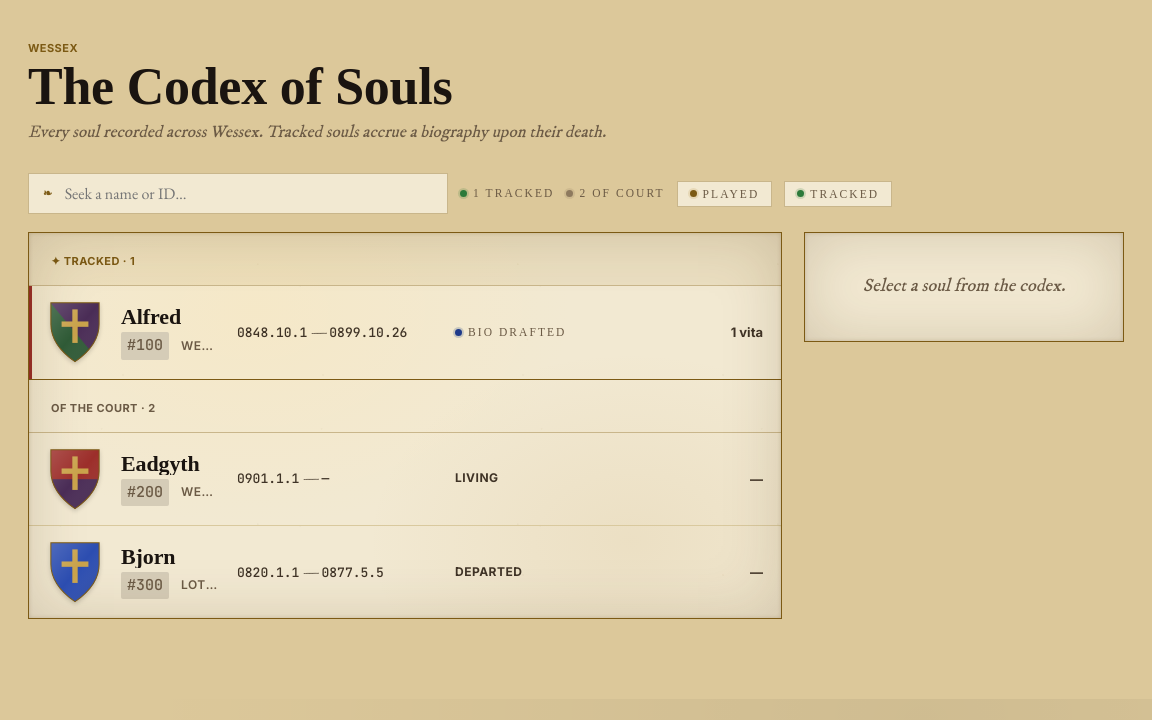
Test case: CodexPage › search routes to the BE-driven endpoint and renders matches across the campaign
This screenshot has width=1152, height=720.
Check: the text "Bjorn" is shown, box [121, 544, 176, 569]
Type "eadg" into the field named "Search characters".
click(248, 194); type("eadg")  # box [63, 182, 433, 205]
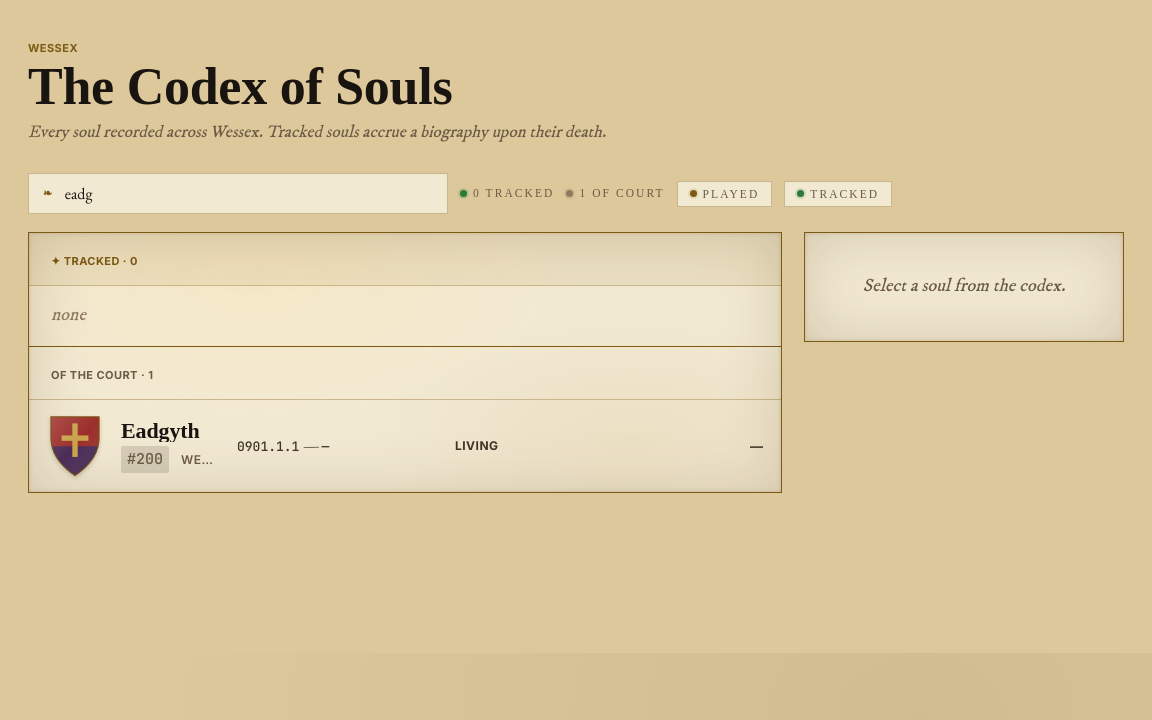
Check: the text "Eadgyth" is shown, box [121, 418, 200, 443]
Check: the option "Alfred" is gone
Check: the option "Bjorn" is gone
